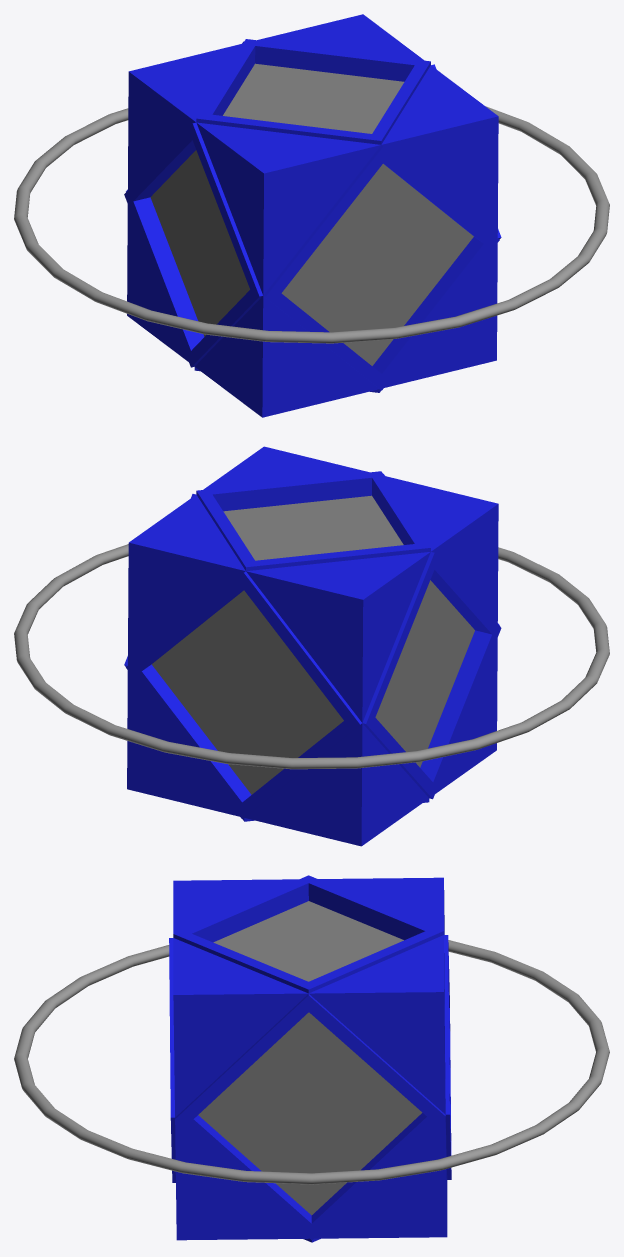
Rendered from CuboConAnillos.FBX.
3 views of the same model, one above another, from view 1: azimuth 30°, elevation 25°; view 2: azimuth 150°, elevation 25°; view 3: azimuth 270°, elevation 25° (orthographic).
Parts seen in each view (by area): view 1: Box003, Circle003; view 2: Box003, Circle003; view 3: Box003, Circle003.
Boxes of the visible parts, x1=… form: Box003: x1=124, y1=14, x2=501, y2=417; Circle003: x1=14, y1=106, x2=609, y2=343; Box003: x1=124, y1=446, x2=501, y2=846; Circle003: x1=14, y1=544, x2=609, y2=769; Box003: x1=169, y1=875, x2=451, y2=1242; Circle003: x1=14, y1=940, x2=609, y2=1184.
Bounding box in the file's own units: 3909 × 1849 × 3902.
